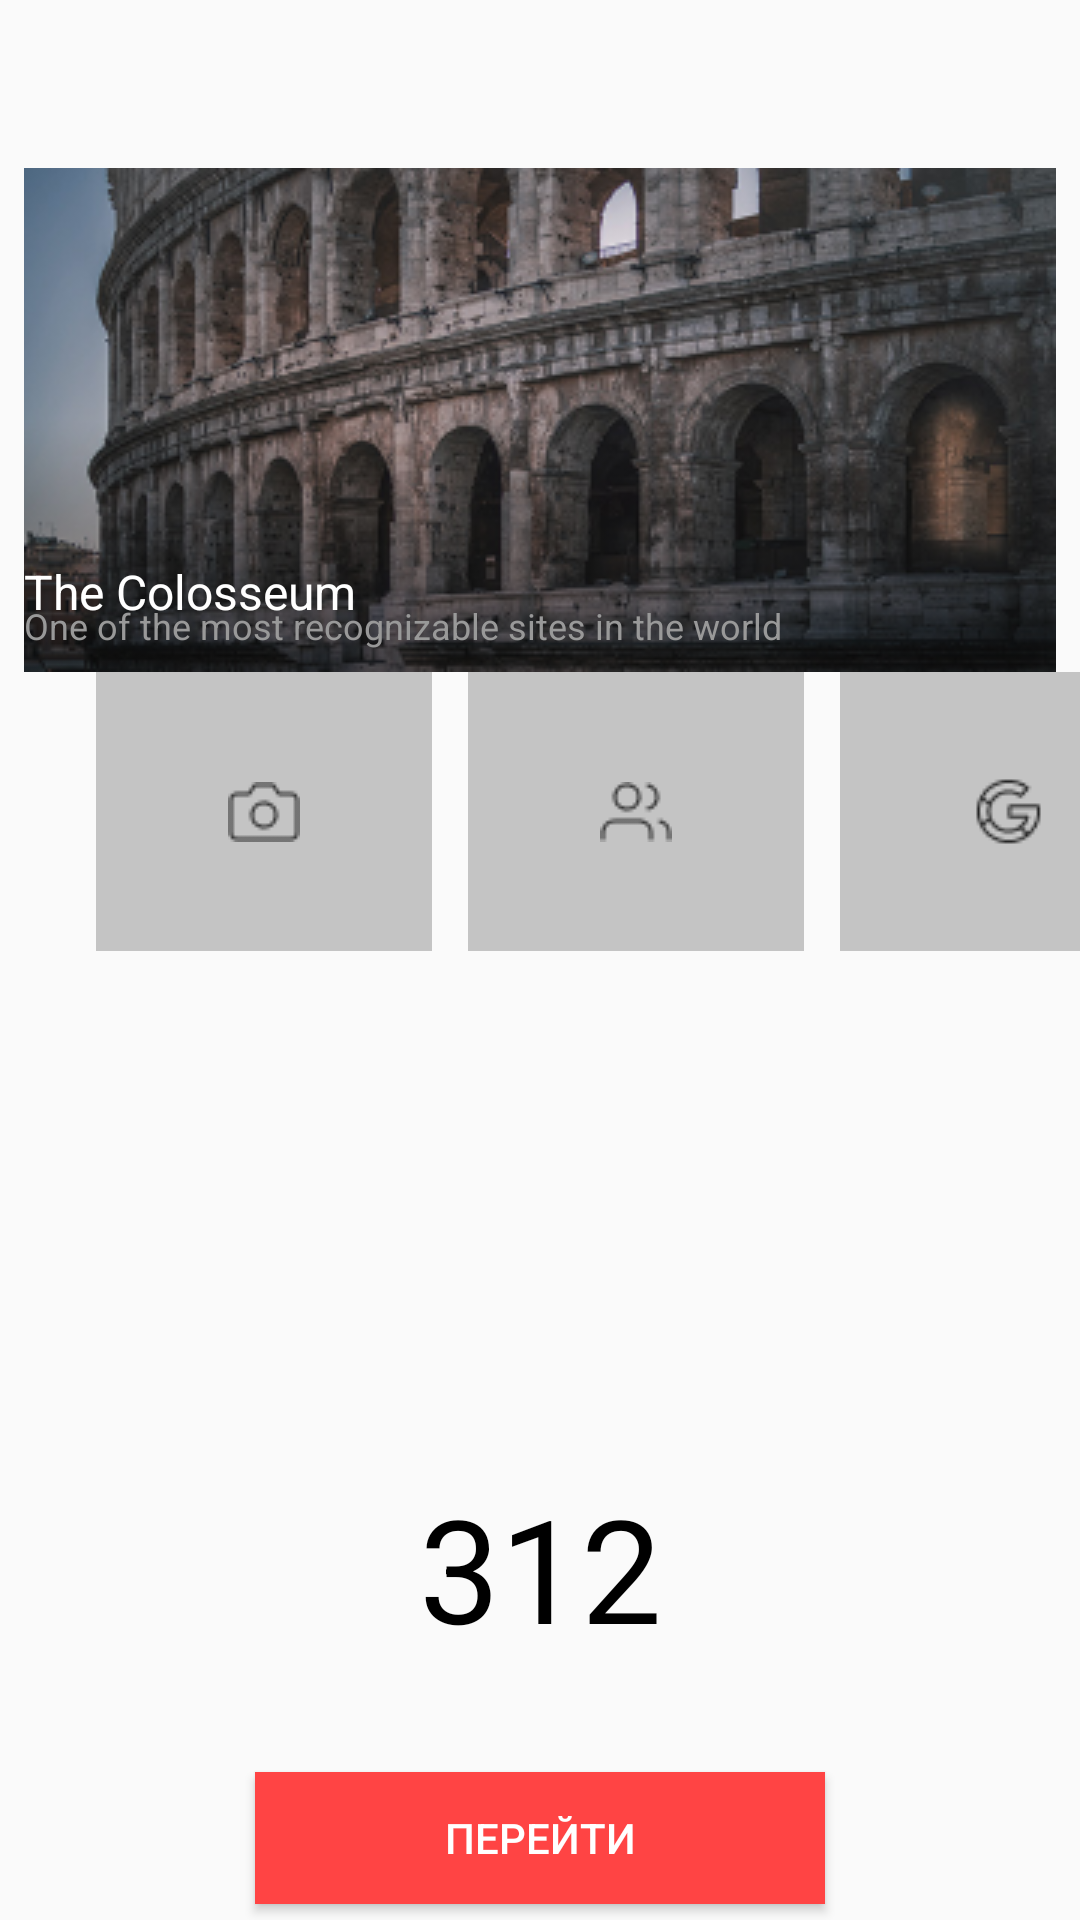

Where icons sit on this 1080*1920 app screen, as (x1, y1, x2, y2):
camera: (228, 782, 300, 842)
gruppy: (600, 782, 672, 842)
